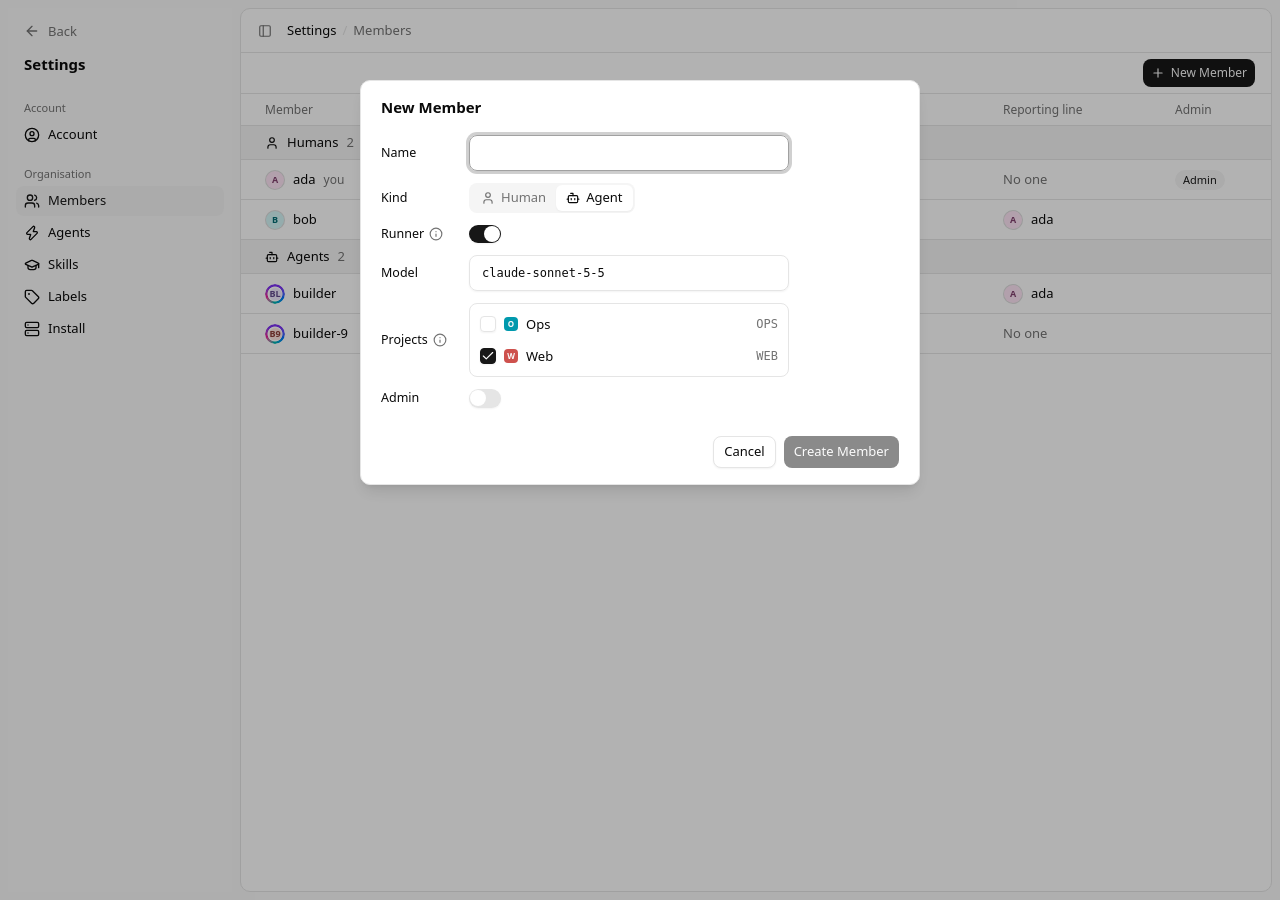
Test: Members and agents › New Member asks an agent's model and sets it after the token, on the default command
Expected: the switch named "Run with the Runner" is checked, [469,225,501,243]
Expected: the button named "About Runner" is shown, [428,226,444,242]
In the field labelled "Name": {"x": 629, "y": 153} [469,135,789,171], type "builder-9"
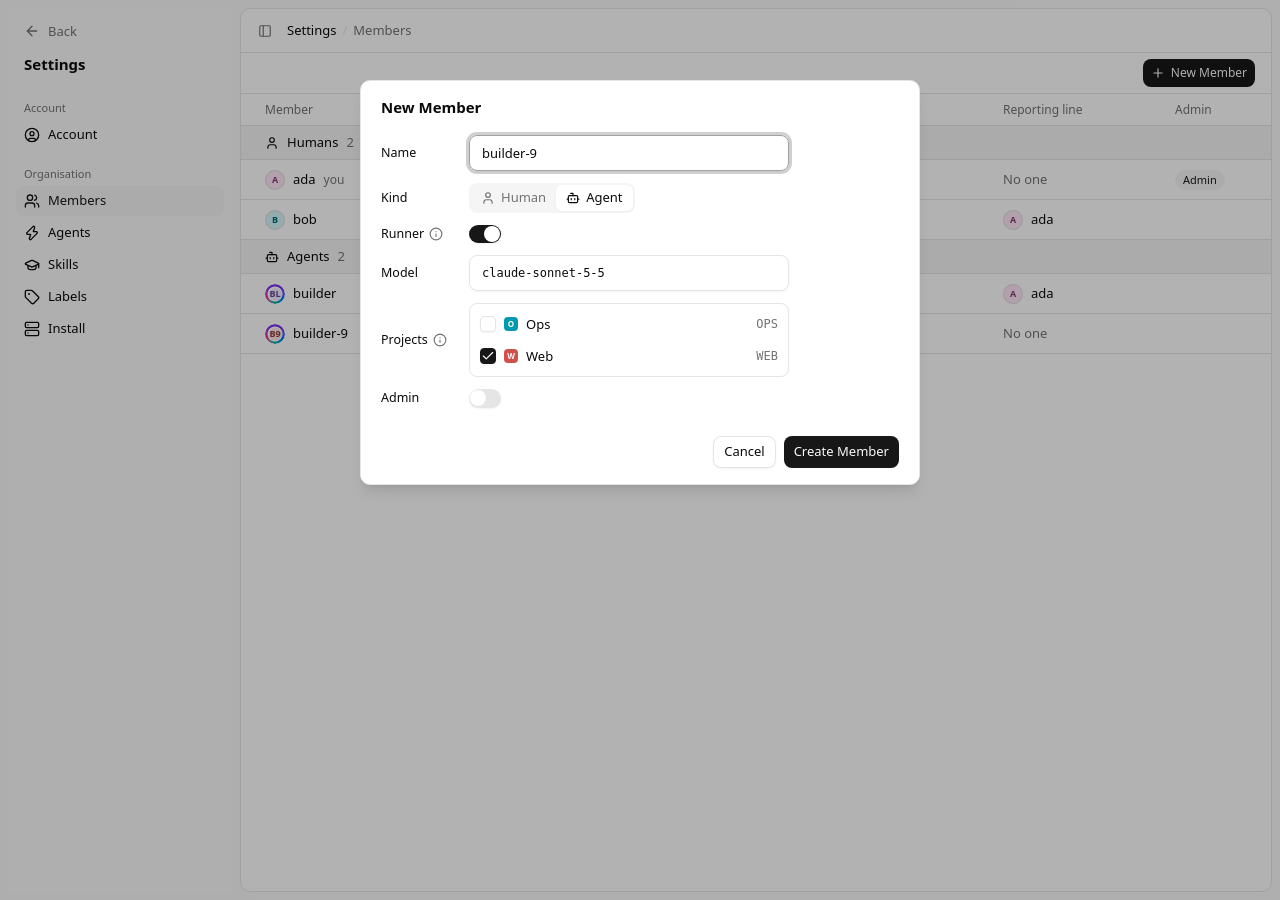
Replace the text in the field labelled "Model" with "claude-opus-5-5": {"x": 629, "y": 273} [469,255,789,291]
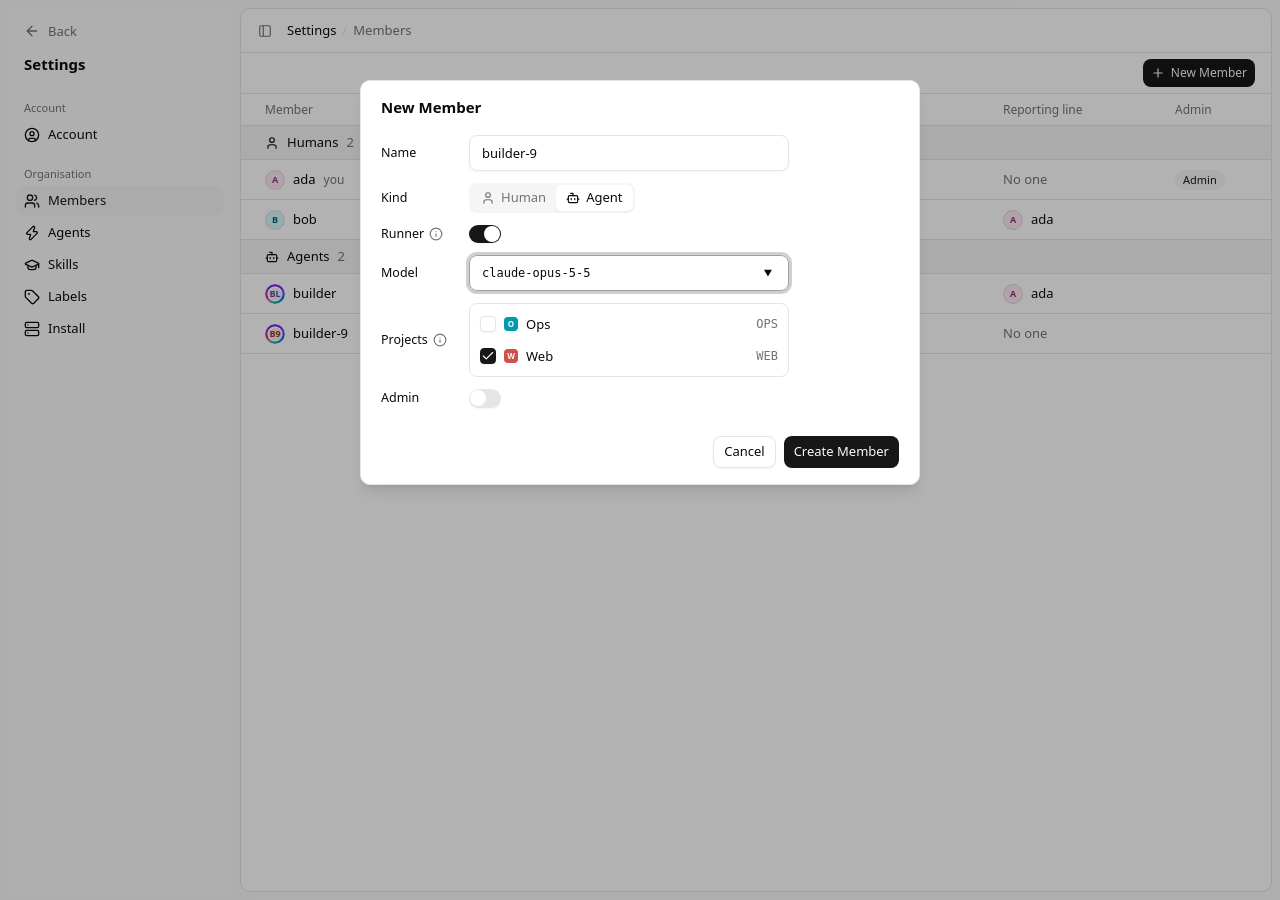
Click the button "Create Member": {"x": 841, "y": 452} [784,436,899,468]
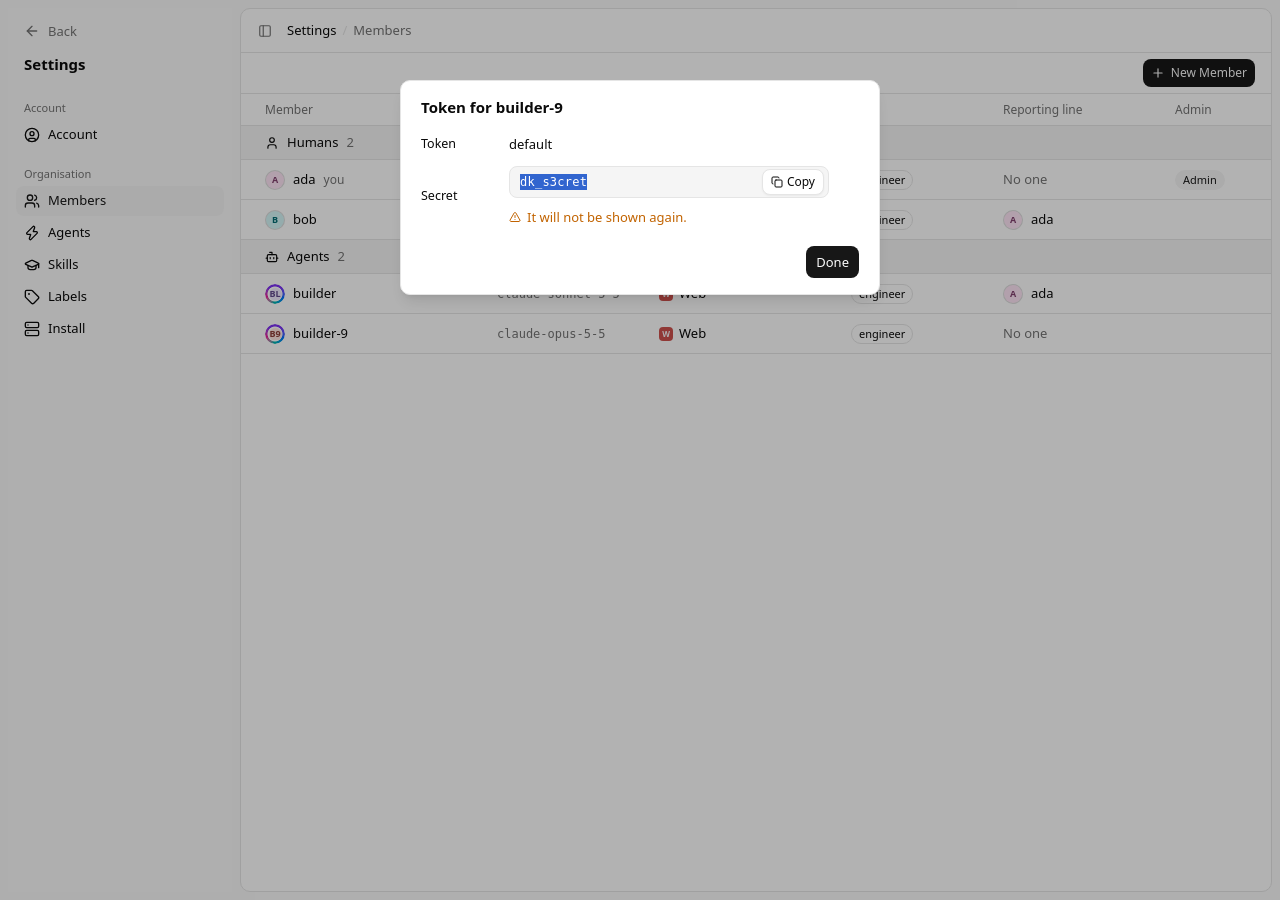
Expected: the dialog "Token for builder-9" is shown, [400,80,880,295]
